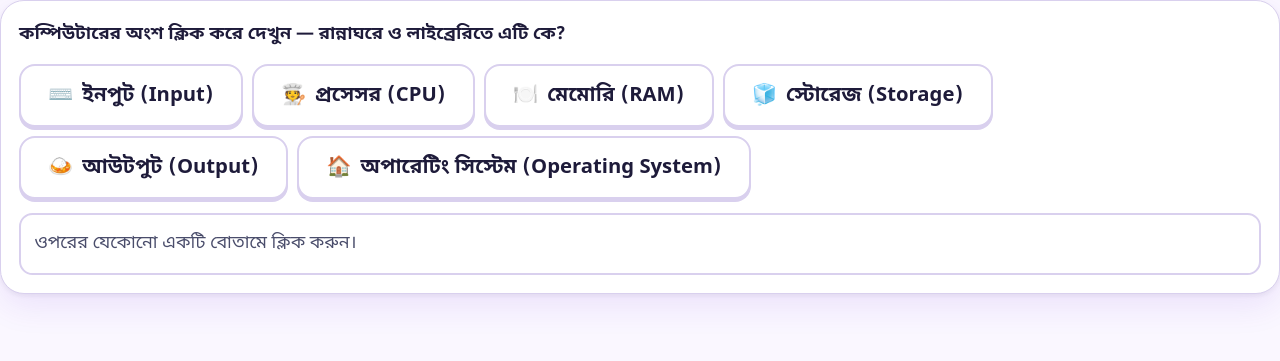
Test: kitchen-analogy widget › reveals the roles
The width and height of the screenshot is (1280, 361).
Click the button with test id "kitchen-ram" at (599, 96), box 484,64 -> 714,127
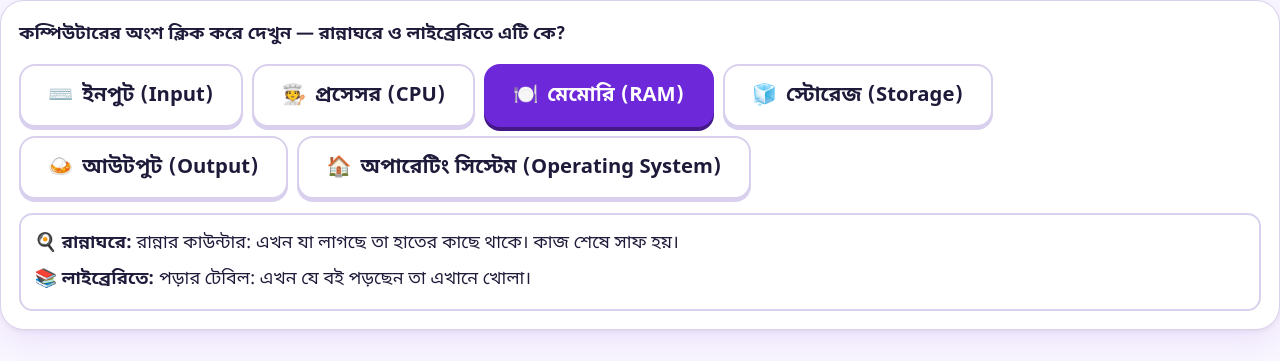
Expected: the element with test id "kitchen-detail" shows "কাউন্টার", 136,231 -> 679,255
